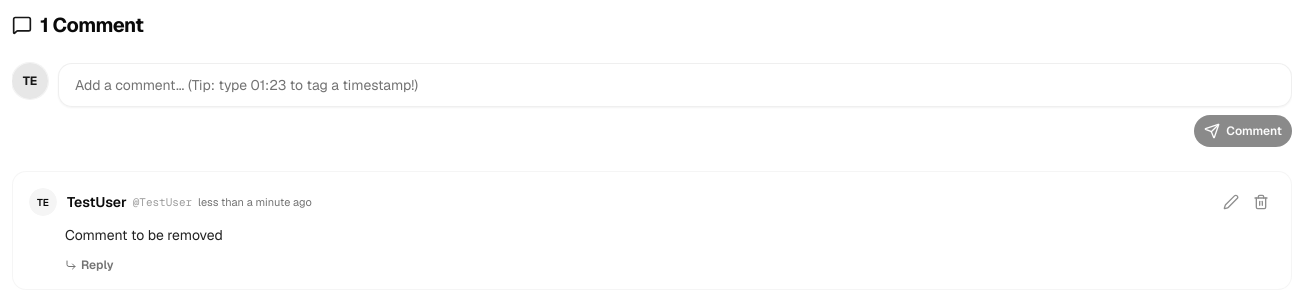
Test: EngagementButtons & CommentsSection › CommentsSection › allows deleting a comment through the confirmation dialog
Check: the text "Comment to be removed" is shown, box x1=65 y1=226 x2=223 y2=244
Note: Click Delete action button
Click the button titled "Delete comment".
click(1261, 202)  # box x1=1247 y1=188 x2=1275 y2=216
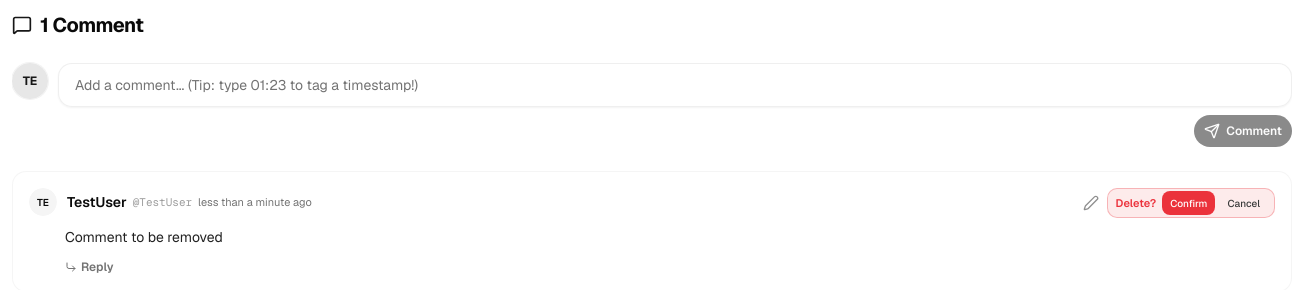
Check: the text "Delete?" is shown, box x1=1116 y1=195 x2=1156 y2=211
Note: Click Confirm button
Click the button "Confirm".
click(1189, 203)  # box x1=1162 y1=191 x2=1216 y2=215
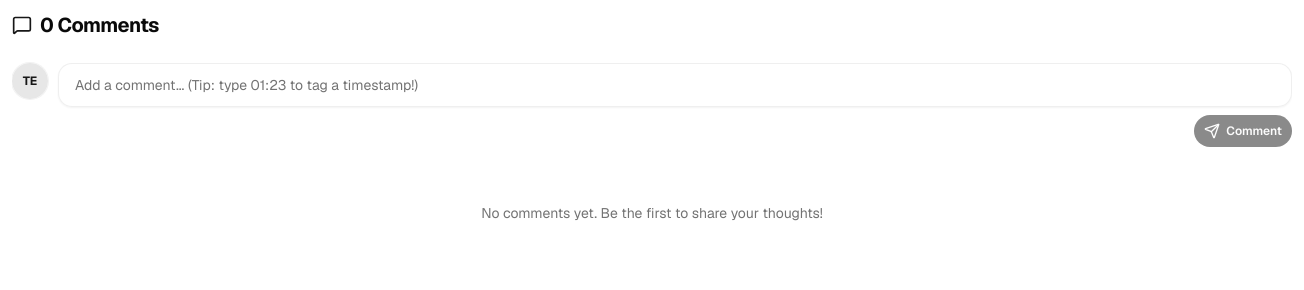
Check: the text "Comment to be removed" is gone
